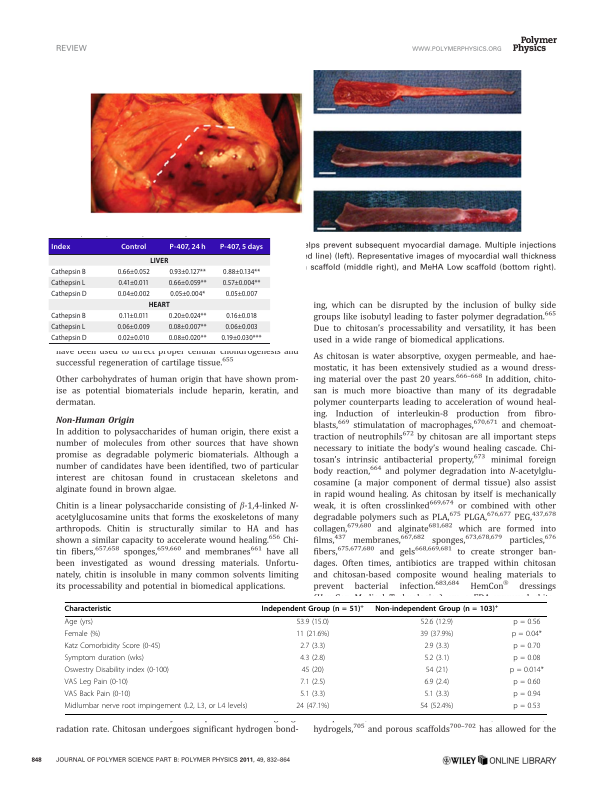borderless: (63, 601, 547, 714), (49, 236, 270, 343)
cell: (64, 702, 248, 711), (374, 603, 499, 614), (261, 603, 365, 614), (64, 666, 170, 676), (64, 642, 161, 652), (64, 654, 145, 664), (64, 690, 131, 699), (64, 678, 129, 687), (64, 605, 112, 614), (219, 242, 264, 251), (220, 334, 262, 343), (64, 630, 101, 640), (509, 666, 545, 676), (168, 267, 207, 276), (222, 267, 261, 276), (168, 278, 207, 287), (222, 278, 261, 287), (168, 312, 207, 321), (168, 323, 207, 332), (168, 334, 207, 343), (295, 618, 330, 628), (295, 630, 330, 640), (419, 630, 454, 640), (169, 242, 207, 251), (420, 618, 454, 628), (50, 267, 87, 276), (50, 289, 87, 298), (169, 289, 206, 298), (50, 312, 87, 321), (50, 334, 87, 343), (50, 278, 86, 287), (50, 323, 86, 332), (511, 630, 543, 640), (116, 323, 151, 332), (224, 323, 259, 332), (295, 702, 330, 711), (419, 702, 454, 711), (117, 267, 151, 276), (117, 289, 151, 298), (64, 618, 94, 628), (117, 278, 150, 287), (225, 289, 258, 298), (225, 312, 258, 321), (117, 334, 150, 343), (512, 618, 541, 628), (512, 642, 541, 652), (512, 654, 541, 664), (118, 312, 149, 321), (299, 642, 326, 652), (423, 642, 450, 652), (299, 654, 326, 664), (423, 654, 450, 664), (512, 678, 541, 687), (512, 690, 541, 699), (512, 702, 541, 711), (120, 242, 147, 251), (299, 678, 326, 687), (423, 678, 450, 687), (299, 690, 326, 699), (423, 690, 450, 699), (301, 666, 325, 676), (425, 666, 449, 676), (50, 242, 71, 251), (148, 301, 171, 308), (149, 256, 169, 263)
